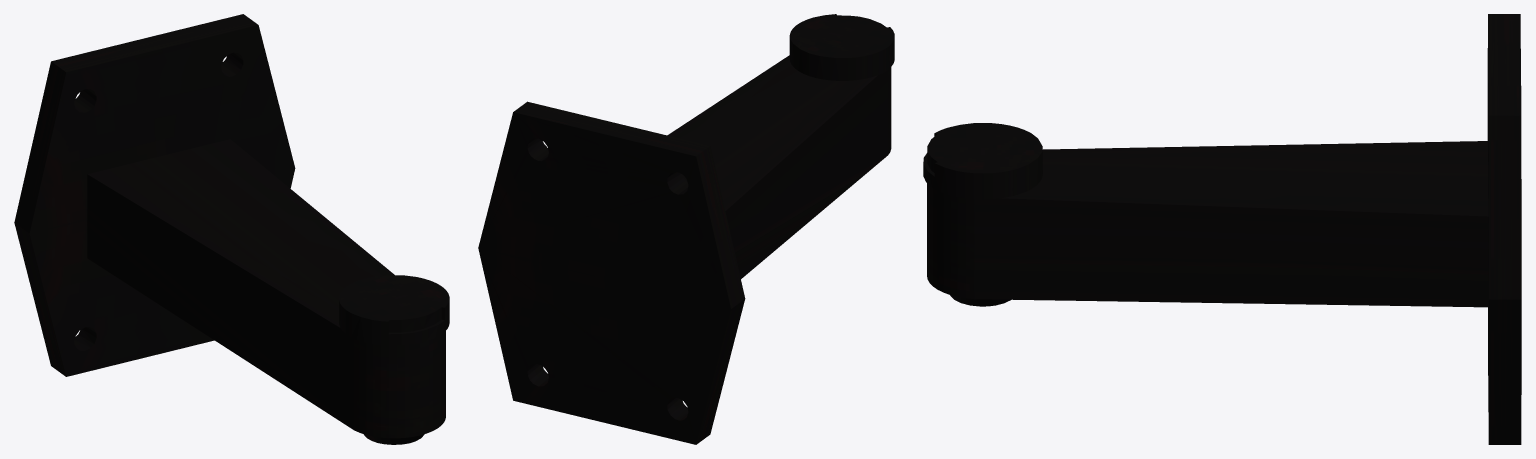
The model's file is bascam.obj.
The picture shows the model from 3 angles, left to right: view 1: azimuth 30°, elevation 25°; view 2: azimuth 150°, elevation 25°; view 3: azimuth 270°, elevation 25°; orthographic projection. The views are drawn at different scales.
Parts seen in each view (by area): view 1: bascam:polySurface560; view 2: bascam:polySurface560; view 3: bascam:polySurface560.
Boxes of the visible parts, x1,y1,x2,y2 form: bascam:polySurface560: [14, 14, 449, 444]; bascam:polySurface560: [478, 14, 894, 444]; bascam:polySurface560: [923, 14, 1521, 444].
Bounding box in the file's own units: 0.2624 × 0.2866 × 0.472.
